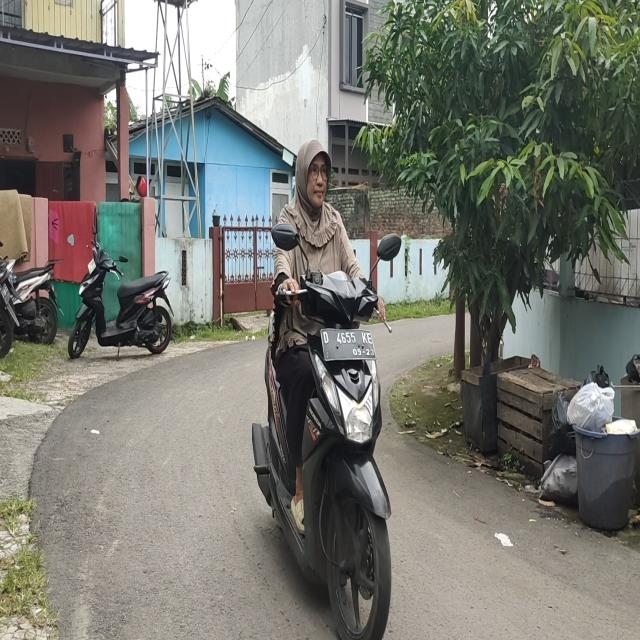no-helmet: (294, 141, 332, 218)
